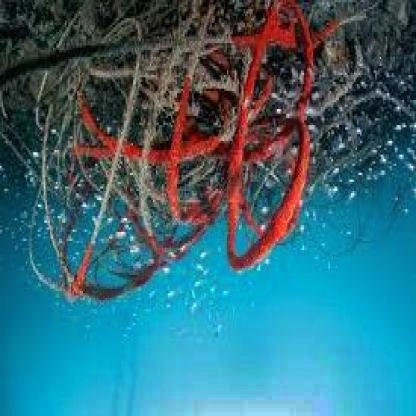net: (38, 2, 330, 298)
